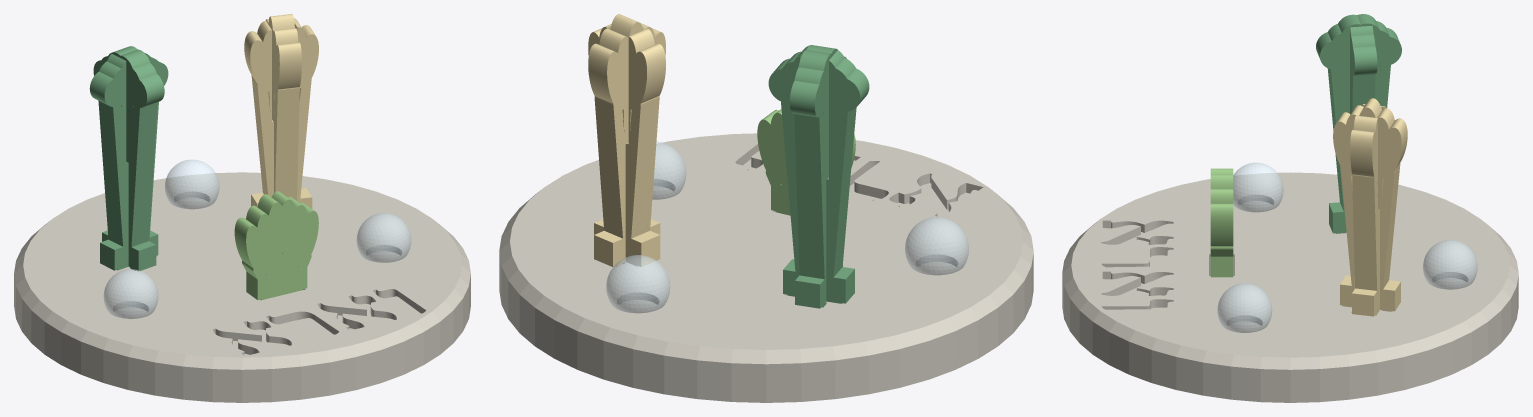
The model's file is vaera.glb.
3 views of the same model, side by side, from view 1: azimuth 30°, elevation 25°; view 2: azimuth 150°, elevation 25°; view 3: azimuth 270°, elevation 25° (orthographic). The views are drawn at different scales.
Parts seen in each view (by area): view 1: stage, wheat, flax-b, flax-a, barley-a, barley-b, hailstone-2, hailstone-3, hailstone-1; view 2: stage, flax-a, flax-b, barley-b, barley-a, hailstone-1, hailstone-3, wheat, hailstone-2; view 3: stage, barley-b, barley-a, flax-b, wheat, hailstone-3, hailstone-2, hailstone-1, flax-a.
Part boxes in pixels (x1,y1,x2,y2): stage: [14, 172, 470, 402]; wheat: [234, 191, 318, 300]; flax-b: [93, 46, 164, 271]; flax-a: [89, 53, 168, 270]; barley-a: [244, 18, 318, 208]; barley-b: [265, 14, 301, 200]; hailstone-2: [356, 213, 411, 262]; hailstone-3: [165, 159, 219, 209]; hailstone-1: [103, 269, 158, 318]; stage: [499, 133, 1033, 402]; flax-a: [768, 45, 869, 303]; flax-b: [789, 45, 846, 308]; barley-b: [588, 14, 665, 266]; barley-a: [588, 24, 665, 266]; hailstone-1: [905, 217, 968, 275]; hailstone-3: [606, 255, 670, 313]; wheat: [757, 109, 855, 215]; hailstone-2: [652, 141, 686, 199]; stage: [1062, 172, 1518, 402]; barley-b: [1333, 98, 1407, 311]; barley-a: [1350, 104, 1386, 316]; flax-b: [1316, 14, 1401, 233]; wheat: [1210, 168, 1233, 277]; hailstone-3: [1423, 240, 1477, 289]; hailstone-2: [1217, 283, 1272, 332]; hailstone-1: [1233, 162, 1283, 212]; flax-a: [1350, 25, 1377, 114].
Bounding box in the file's own units: 40 × 24.04 × 40.
